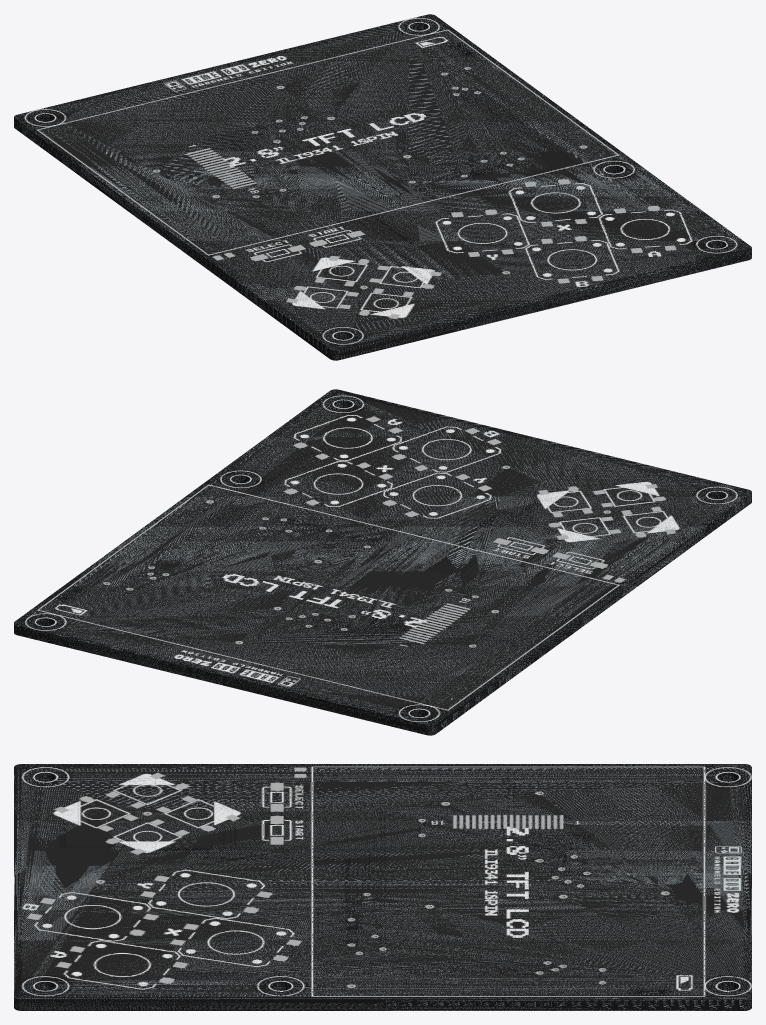
File: gameboyzero.dae
3 views of the same model, one above another, from view 1: azimuth 30°, elevation 25°; view 2: azimuth 150°, elevation 25°; view 3: azimuth 270°, elevation 25° (orthographic). The views are drawn at different scales.
Parts seen in each view (by area): view 1: pcbgroup (×2); view 2: pcbgroup (×2); view 3: pcbgroup (×2).
Part boxes in pixels (x1=…): pcbgroup (×2): x1=14, y1=14, x2=751, y2=360; pcbgroup (×2): x1=14, y1=389, x2=751, y2=735; pcbgroup (×2): x1=14, y1=764, x2=751, y2=1010.
Bounding box in the file's own units: 2795 × 3701 × 62.99.
Materials: 6 (2 with a texture image).
